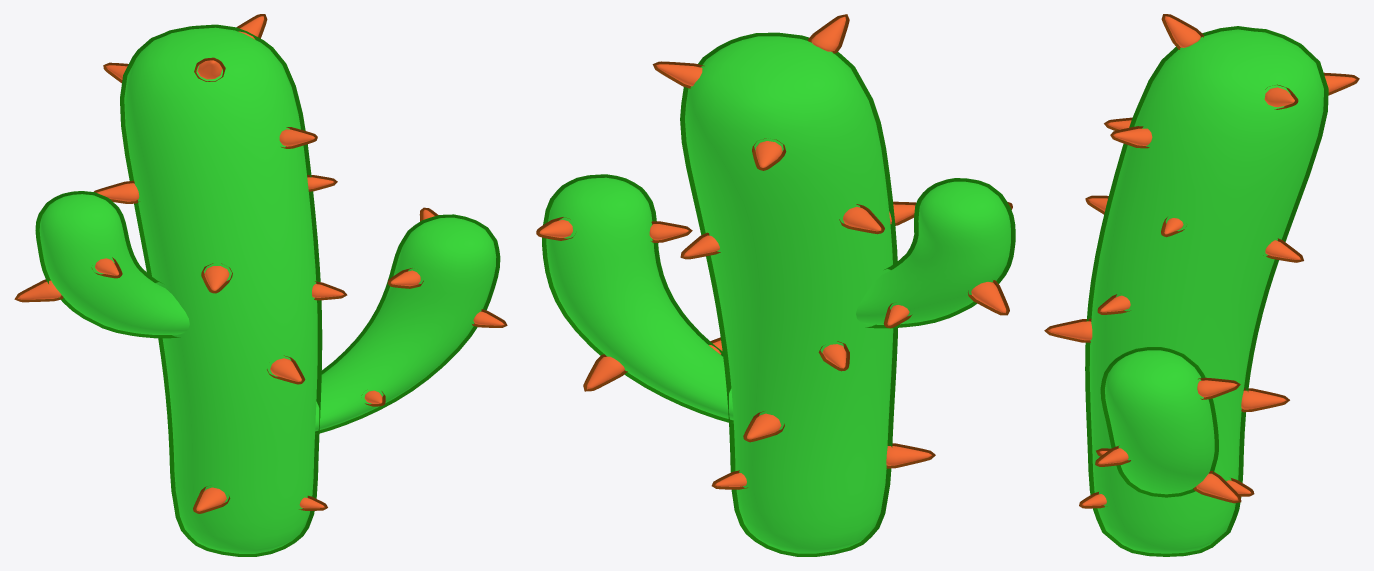
File: cactus.gltf
The picture shows the model from 3 angles, left to right: view 1: azimuth 30°, elevation 25°; view 2: azimuth 150°, elevation 25°; view 3: azimuth 270°, elevation 25°; orthographic projection. The views are drawn at different scales.
Parts seen in each view (by area): view 1: pCylinder1, pCylinder2, pCylinder3, pCylinder4, pCylinder5, pCylinder6; view 2: pCylinder1, pCylinder2, pCylinder3, pCylinder4, pCylinder5, pCylinder6, pCone22, pCone17, pCone7, pCone21, pCone15, pCone16 (+1 smaller); view 3: pCylinder1, pCylinder2, pCylinder4, pCylinder5, pCone22, pCone10, pCone1, pCone17, pCone2, pCone13, pCone21, pCone12.
Part boxes in pixels (left/top/right/bottom): pCylinder1: left=124, top=27, right=317, bottom=553; pCylinder2: left=315, top=217, right=496, bottom=431; pCylinder3: left=39, top=194, right=189, bottom=334; pCylinder4: left=120, top=24, right=322, bottom=556; pCylinder5: left=315, top=214, right=500, bottom=434; pCylinder6: left=35, top=191, right=180, bottom=338; pCylinder1: left=685, top=36, right=893, bottom=553; pCylinder2: left=546, top=177, right=733, bottom=420; pCylinder3: left=856, top=181, right=1010, bottom=324; pCylinder4: left=680, top=32, right=897, bottom=556; pCylinder5: left=542, top=174, right=733, bottom=423; pCylinder6: left=865, top=178, right=1015, bottom=328; pCone22: left=811, top=16, right=845, bottom=51; pCone17: left=587, top=356, right=624, bottom=389; pCone7: left=971, top=282, right=1006, bottom=312; pCone21: left=656, top=64, right=702, bottom=86; pCone15: left=886, top=446, right=931, bottom=465; pCone16: left=843, top=206, right=881, bottom=231; pCylinder1: left=1089, top=29, right=1323, bottom=553; pCylinder2: left=1105, top=350, right=1214, bottom=494; pCylinder4: left=1085, top=26, right=1328, bottom=556; pCylinder5: left=1100, top=347, right=1218, bottom=497; pCone22: left=1165, top=16, right=1200, bottom=47; pCone10: left=1241, top=390, right=1286, bottom=409; pCone1: left=1048, top=321, right=1092, bottom=340; pCone17: left=1196, top=473, right=1238, bottom=500; pCone2: left=1113, top=128, right=1152, bottom=145; pCone13: left=1197, top=380, right=1237, bottom=397; pCone21: left=1264, top=87, right=1294, bottom=107; pCone12: left=1265, top=240, right=1300, bottom=259.
Bounding box in the file's own units: 1.3 × 1.35 × 0.7611.
